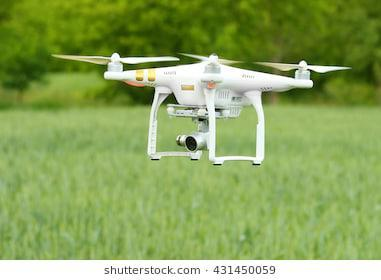drone: (48, 47, 361, 168)
